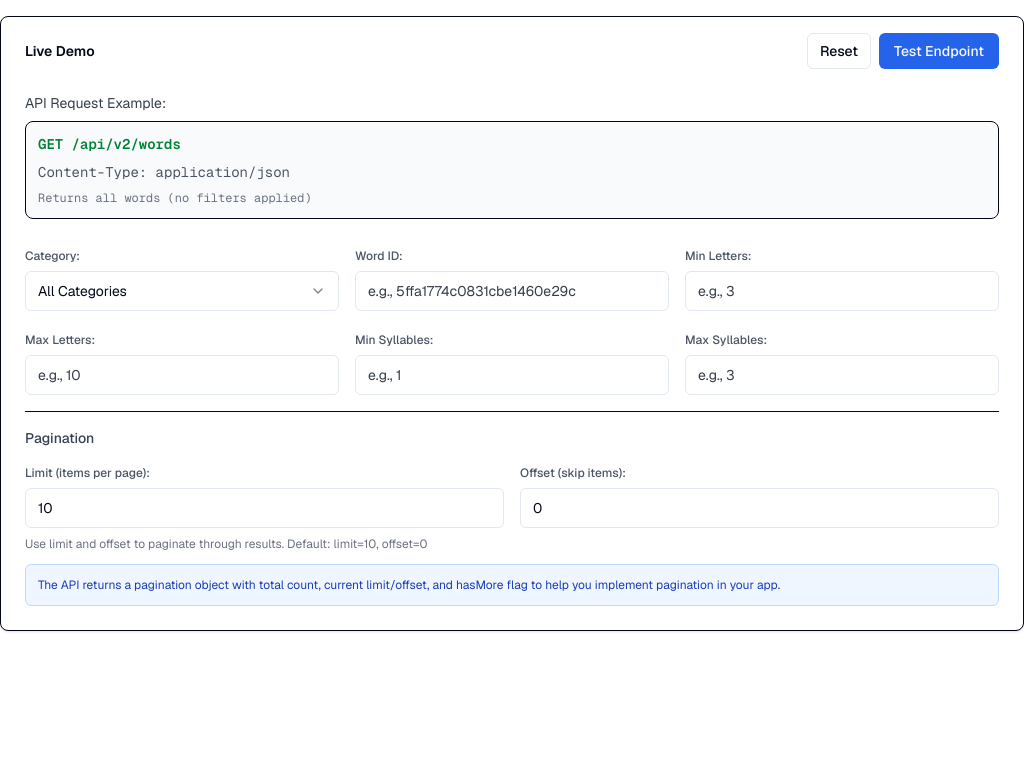
Test: Word CRUD Integration Flow › should complete word filtering flow
The image size is (1024, 767).
Apply category filter
Click the dropdown. click: [82, 291]
box: top-left (25, 271), bottom-right (339, 311)
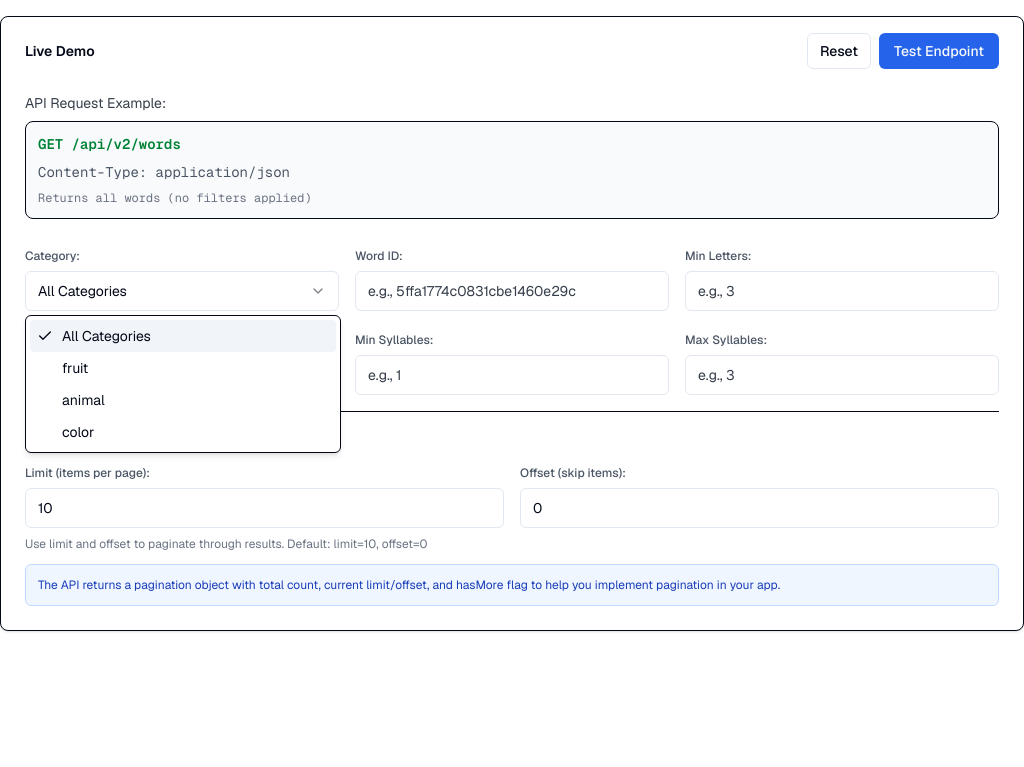
Expected: the text "fruit" is shown
Click the option "fruit". click: [75, 368]
box: top-left (62, 359), bottom-right (88, 377)
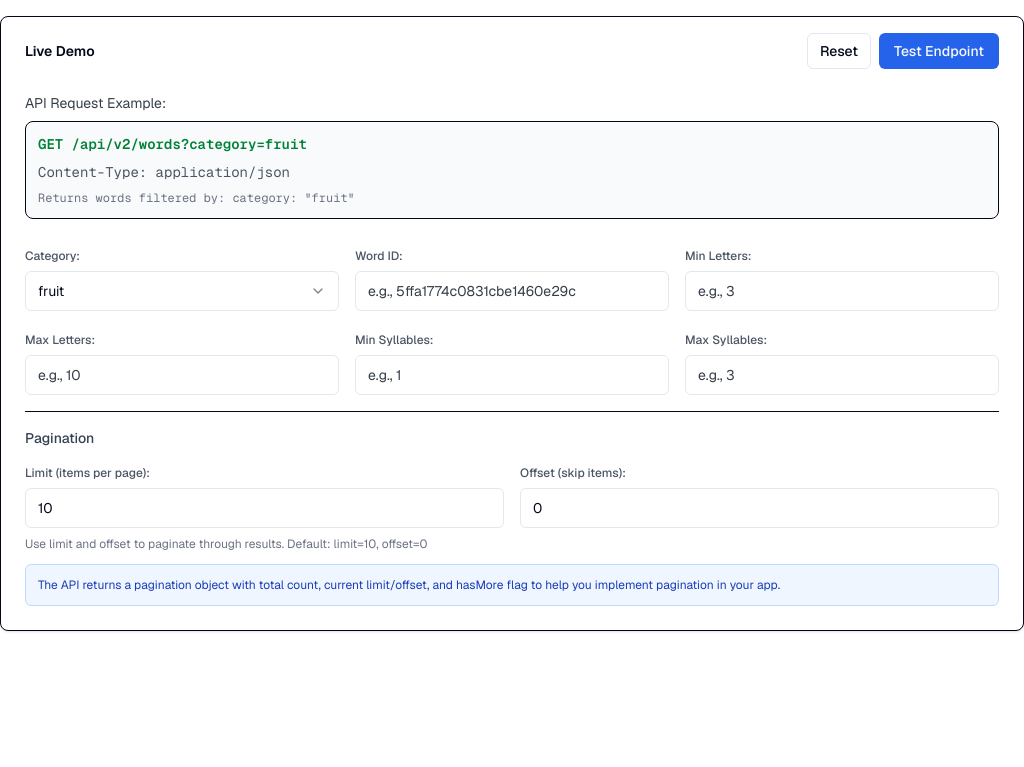
Submit filter
Click the button "Test Endpoint". click: [939, 51]
box: top-left (879, 33), bottom-right (999, 69)
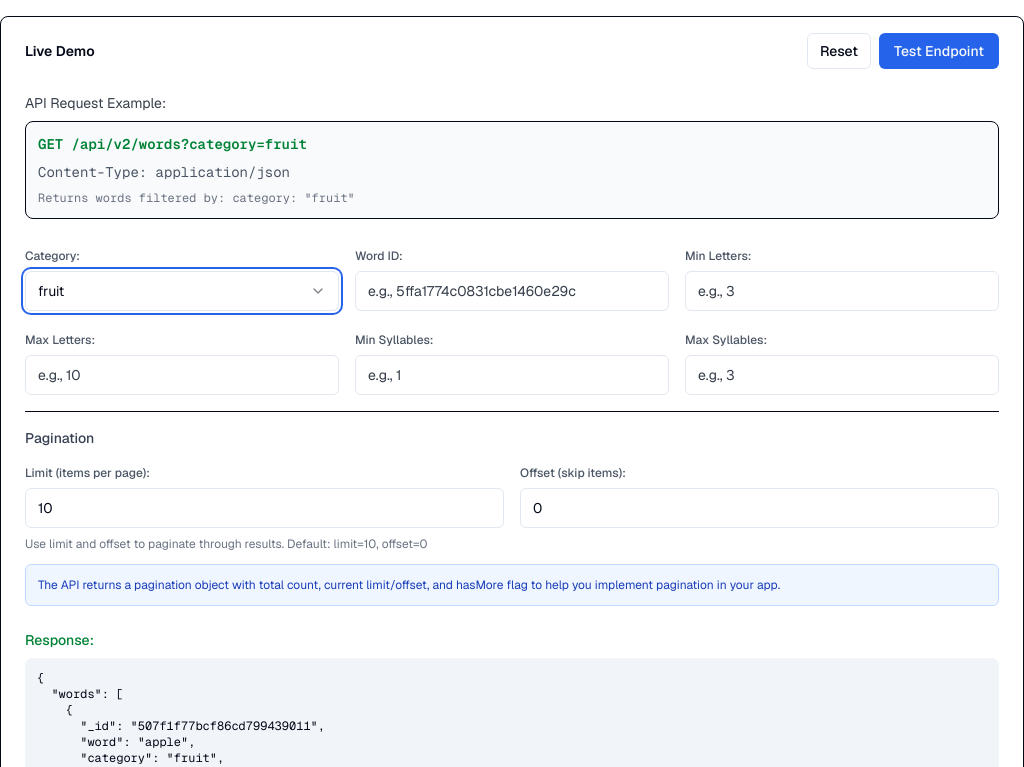
Expected: the heading "Response:" is shown, top-left (25, 630), bottom-right (94, 650)
